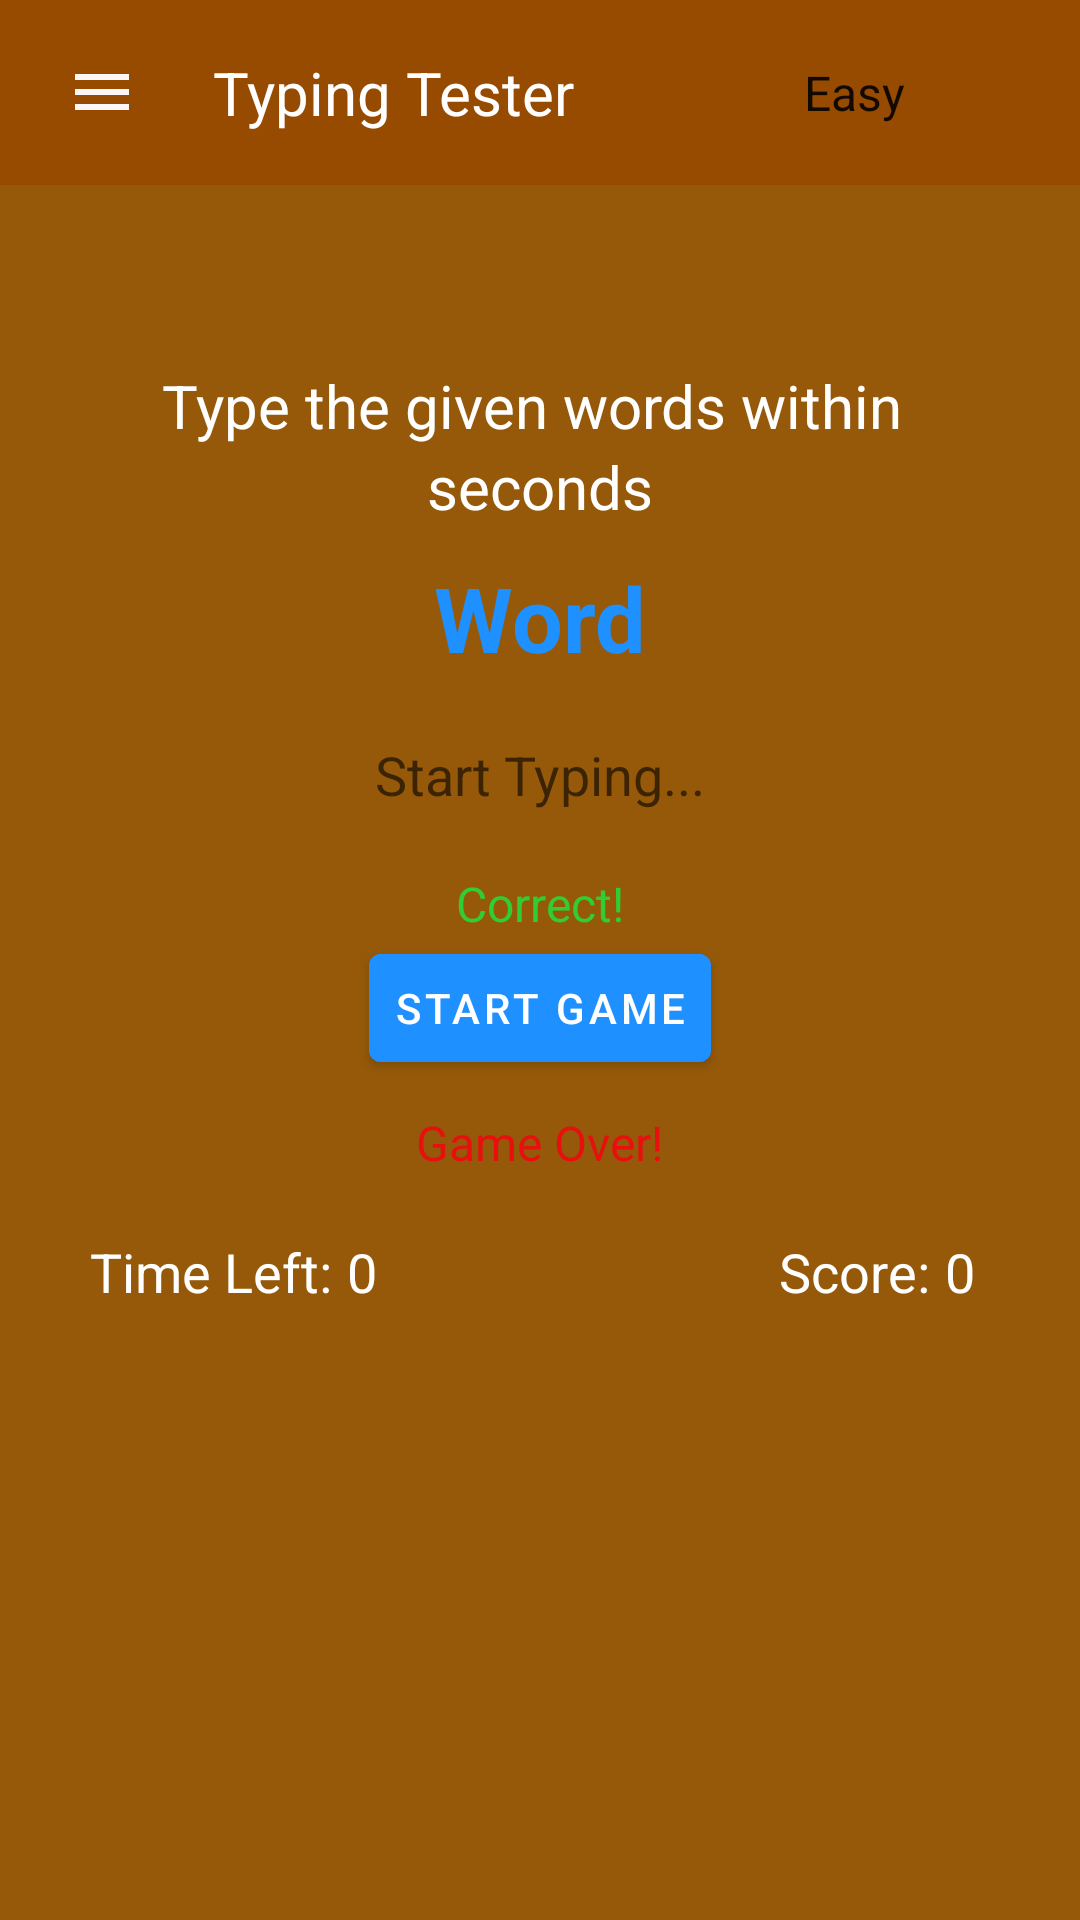

Screen size 1080*1920. Icon name, then its center in pixels as (x=x, y=y):
menu: (x=102, y=92)
